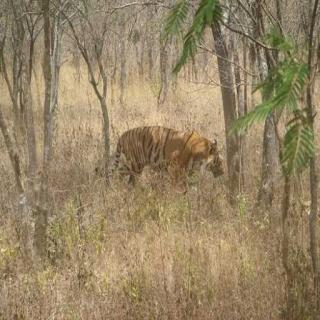Tiger: (99, 117, 233, 208)
